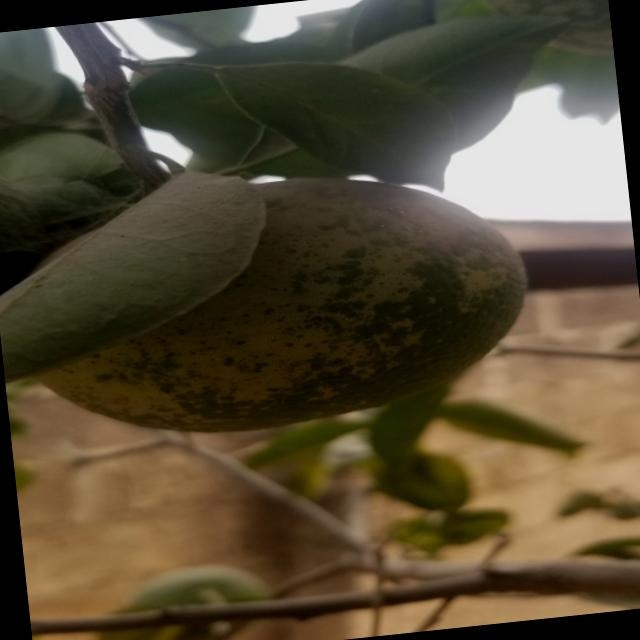agrume: (14, 159, 542, 453)
